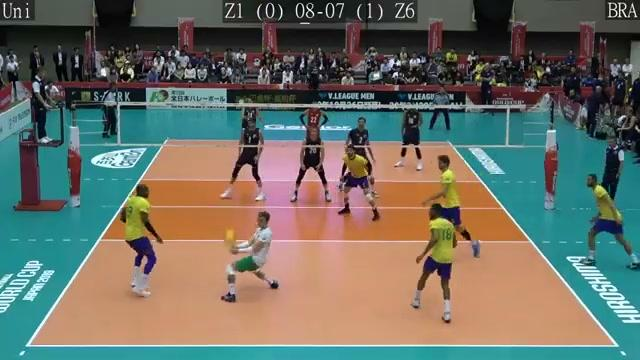ball: (221, 226, 238, 244)
